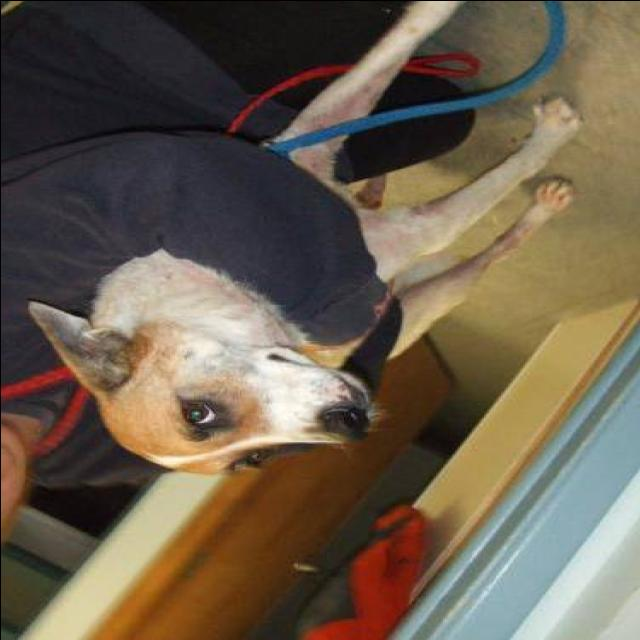dog: (31, 0, 592, 491)
